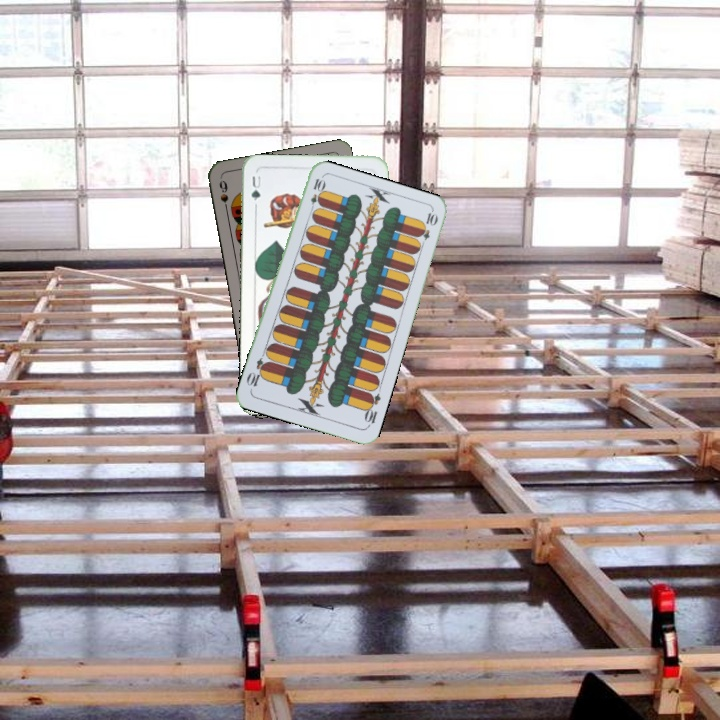E10: (360, 389, 383, 430), (306, 174, 326, 215)
GU: (247, 172, 263, 204)
S9: (215, 176, 231, 216)
